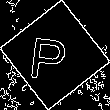P_N: (33, 28, 77, 82)
